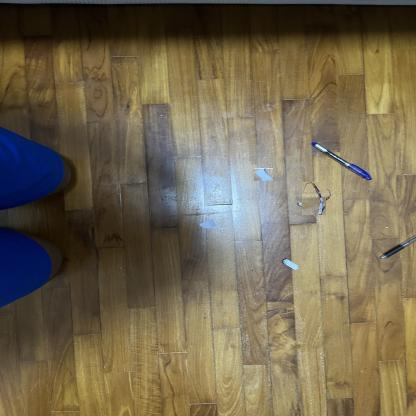dirty: (300, 184, 328, 212), (253, 168, 273, 181), (200, 219, 216, 229)
